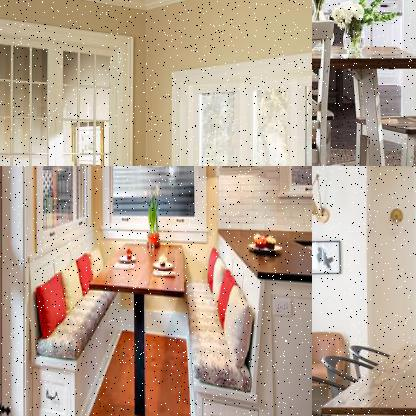table: (86, 233, 189, 415), (312, 32, 415, 165), (313, 340, 415, 415)
